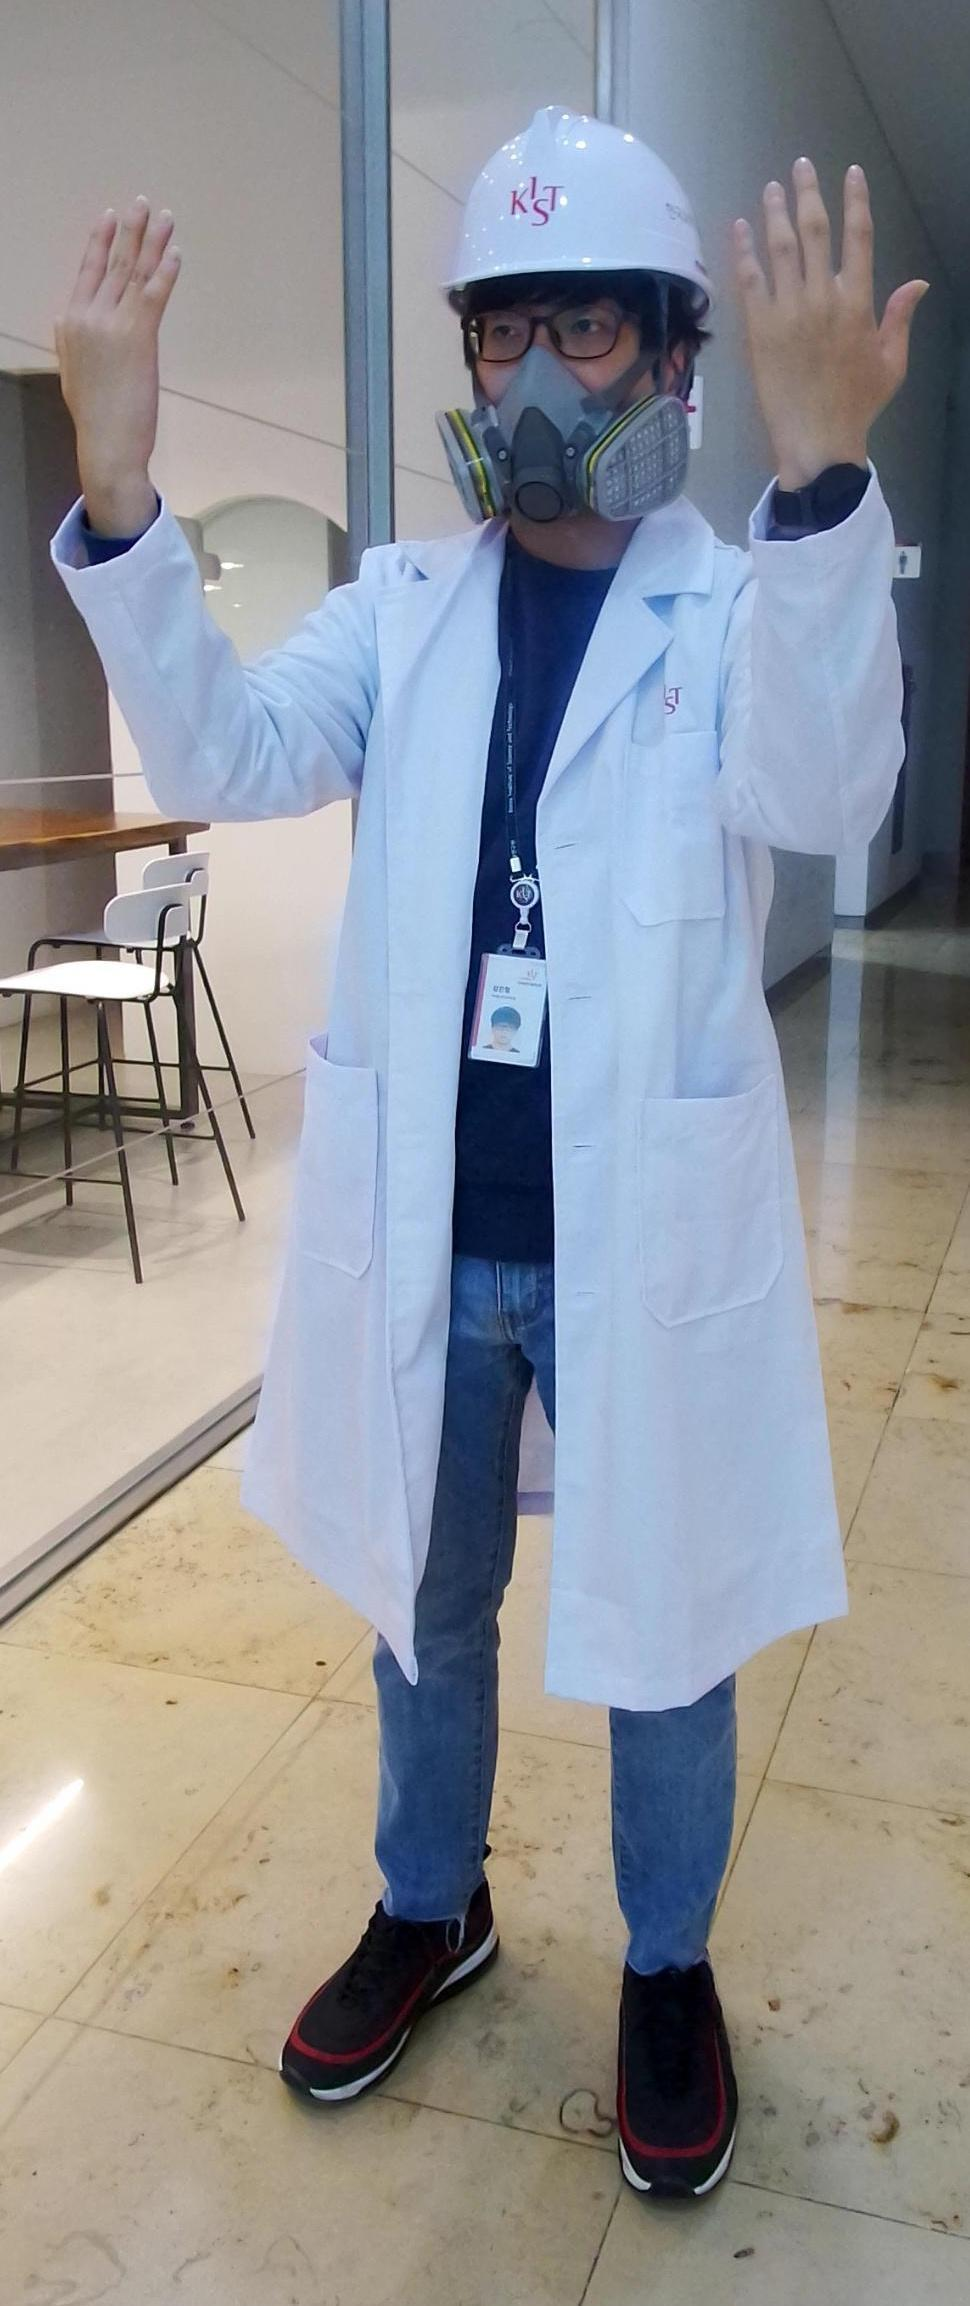lab_coat: (222, 510, 866, 1599)
